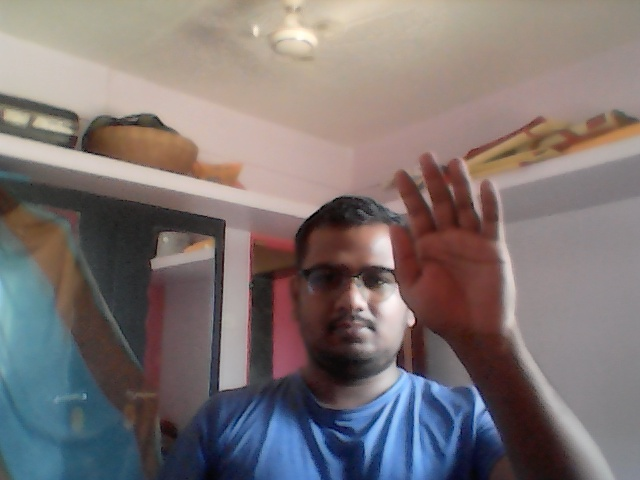Hello: (383, 146, 526, 343)
